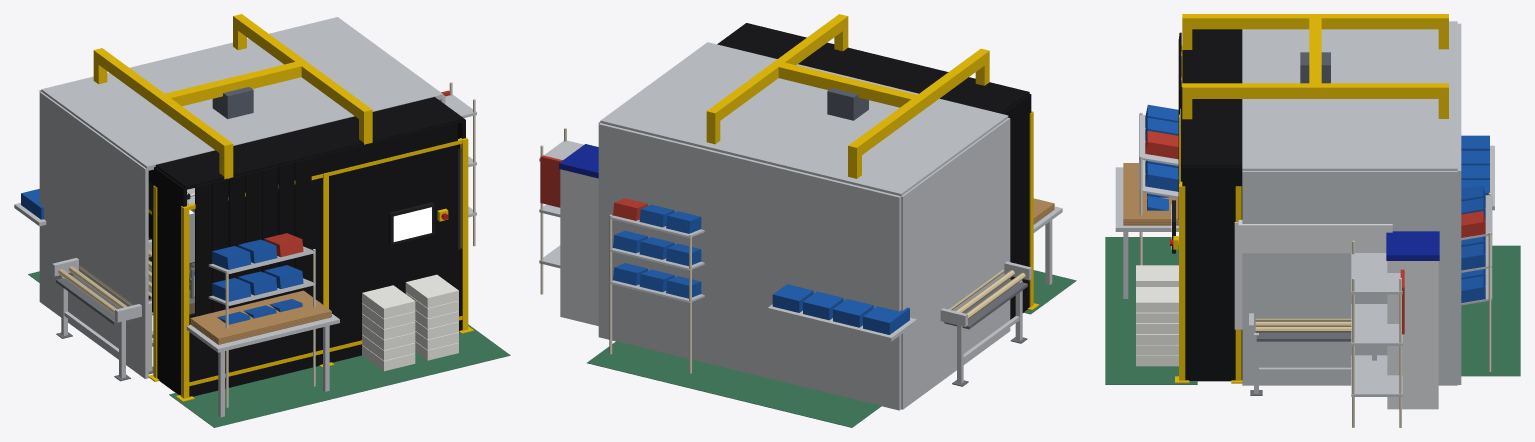
Rendered from mainline-plant.glb.
The picture shows the model from 3 angles, left to right: view 1: azimuth 30°, elevation 25°; view 2: azimuth 150°, elevation 25°; view 3: azimuth 270°, elevation 25°; orthographic projection.
Parts seen in each view (by area): view 1: ML.wb.booth, ML.qa.booth, ML.packer.materials, ML.packer.lift, ML.robot.guard, ML.bench.racks, ML.fct.sets, ML.packer.conveyor, ML.qa.station, ML.robot.equipment; view 2: ML.qa.booth, ML.wb.booth, ML.packer.lift, ML.bench.frame, ML.bench.racks, ML.robot.equipment, ML.packer.materials, ML.packer.conveyor, ML.qa.station, ML.robot.guard; view 3: ML.qa.booth, ML.wb.booth, ML.packer.materials, ML.packer.lift, ML.qa.station, ML.robot.equipment, ML.bench.racks, ML.bench.frame, ML.packer.conveyor, ML.fct.sets, ML.robot.guard.
Boxes of the visible parts, x1=… form: ML.wb.booth: x1=148, y1=97, x2=465, y2=396; ML.qa.booth: x1=39, y1=17, x2=445, y2=378; ML.packer.materials: x1=14, y1=189, x2=458, y2=371; ML.packer.lift: x1=93, y1=14, x2=372, y2=212; ML.robot.guard: x1=148, y1=137, x2=473, y2=401; ML.bench.racks: x1=208, y1=233, x2=315, y2=407; ML.fct.sets: x1=195, y1=334, x2=487, y2=419; ML.packer.conveyor: x1=52, y1=242, x2=339, y2=417; ML.qa.station: x1=169, y1=82, x2=510, y2=427; ML.robot.equipment: x1=148, y1=202, x2=448, y2=244; ML.qa.booth: x1=598, y1=42, x2=1010, y2=410; ML.wb.booth: x1=717, y1=23, x2=1031, y2=319; ML.packer.lift: x1=706, y1=14, x2=989, y2=178; ML.bench.frame: x1=587, y1=341, x2=881, y2=427; ML.bench.racks: x1=609, y1=198, x2=704, y2=373; ML.robot.equipment: x1=559, y1=144, x2=598, y2=325; ML.packer.materials: x1=767, y1=198, x2=1054, y2=341; ML.packer.conveyor: x1=940, y1=206, x2=1062, y2=386; ML.qa.station: x1=539, y1=128, x2=1076, y2=314; ML.robot.guard: x1=1028, y1=111, x2=1039, y2=310; ML.qa.booth: x1=1242, y1=21, x2=1461, y2=385; ML.wb.booth: x1=1178, y1=29, x2=1242, y2=381; ML.packer.materials: x1=1123, y1=135, x2=1494, y2=366; ML.packer.lift: x1=1182, y1=14, x2=1448, y2=119; ML.qa.station: x1=1105, y1=237, x2=1404, y2=427; ML.robot.equipment: x1=1170, y1=200, x2=1439, y2=409; ML.bench.racks: x1=1139, y1=104, x2=1492, y2=371; ML.bench.frame: x1=1461, y1=245, x2=1520, y2=376; ML.packer.conveyor: x1=1115, y1=167, x2=1376, y2=395; ML.fct.sets: x1=1115, y1=245, x2=1178, y2=375; ML.robot.guard: x1=1175, y1=45, x2=1242, y2=383.
Bounding box in the file's own units: 4.7 × 2.66 × 4.05.
